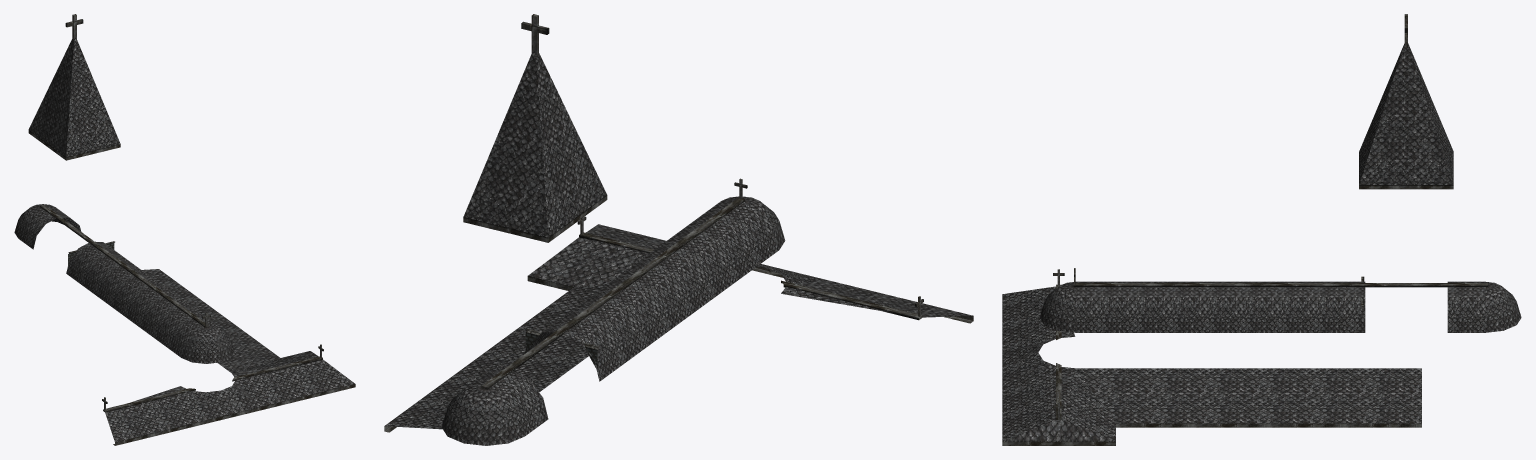
The model's file is church_roof01.DAE.
3 renders of one model, left to right at view 1: azimuth 30°, elevation 25°; view 2: azimuth 150°, elevation 25°; view 3: azimuth 270°, elevation 25°, orthographic. The views are drawn at different scales.
Parts seen in each view (by area): view 1: Object096, Object092; view 2: Object096, Object092; view 3: Object096, Object092.
Boxes of the visible parts, <box> form: Object096: <box>14,37,354,442</box>; Object092: <box>28,14,355,445</box>; Object096: <box>385,51,972,445</box>; Object092: <box>384,14,973,432</box>; Object096: <box>1002,43,1521,441</box>; Object092: <box>1002,14,1487,445</box>.
Size of the model in its own units: 41.17 by 46.47 by 61.21.
